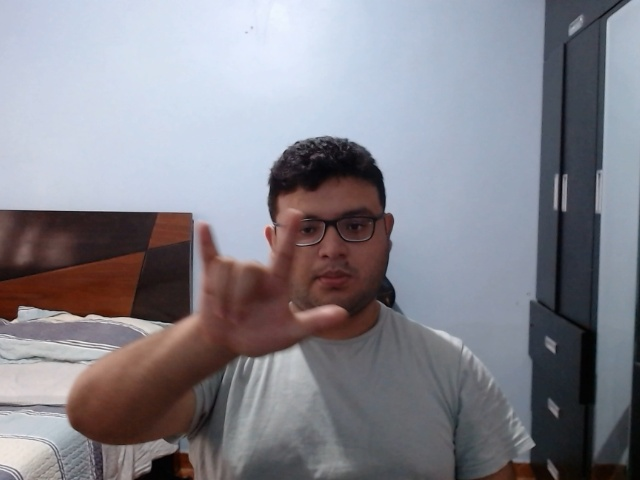I love you: (192, 210, 349, 367)
